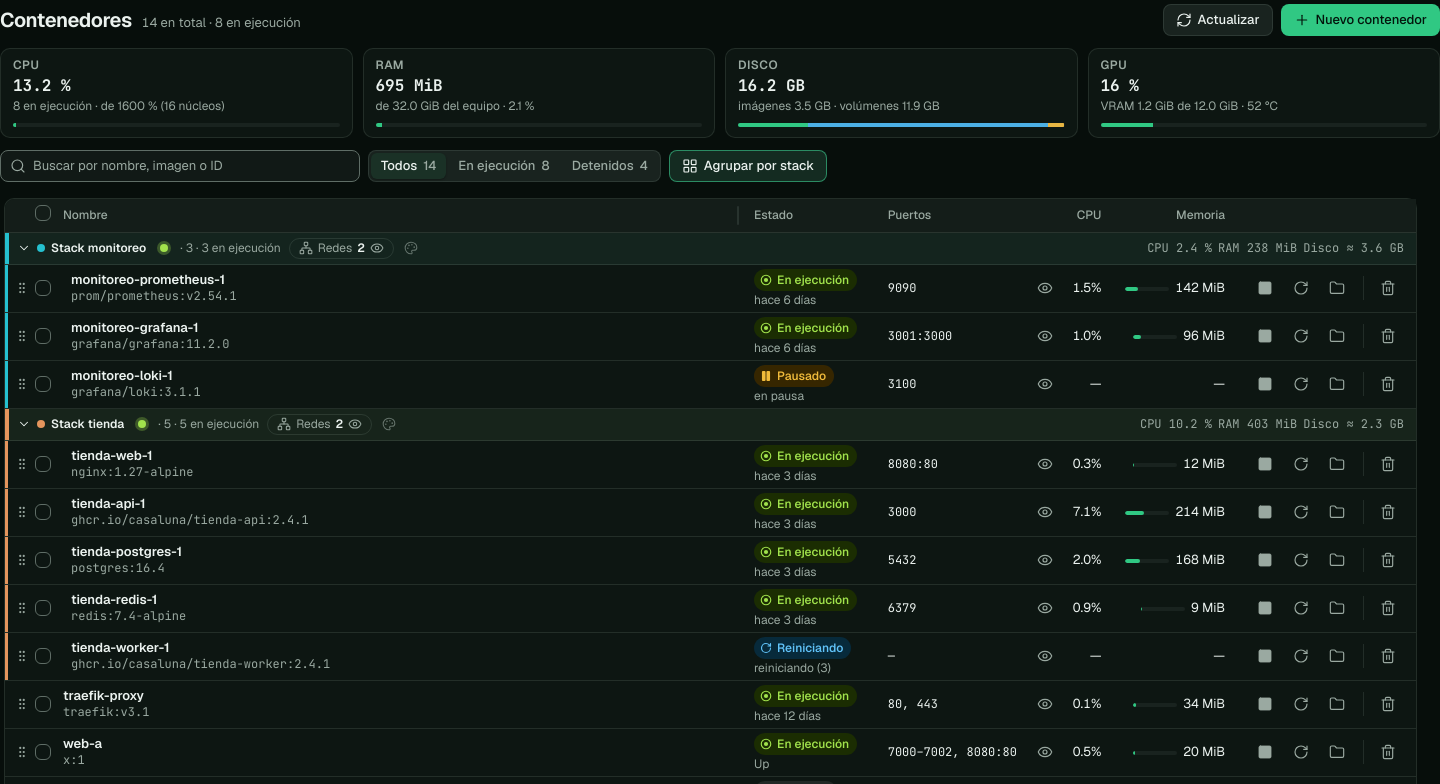
Test: Copiar y Abrir puerto › fila tcp publicada: botones Copiar y Abrir (nunca enlaces ni window.open); sin botones en udp, rango ni solo expuesto
Expected: the link "web-a" is shown, [63,735,102,752]
Click the button named "Ver puertos e IPs de web-a": (1045, 752) [1029,736,1061,768]
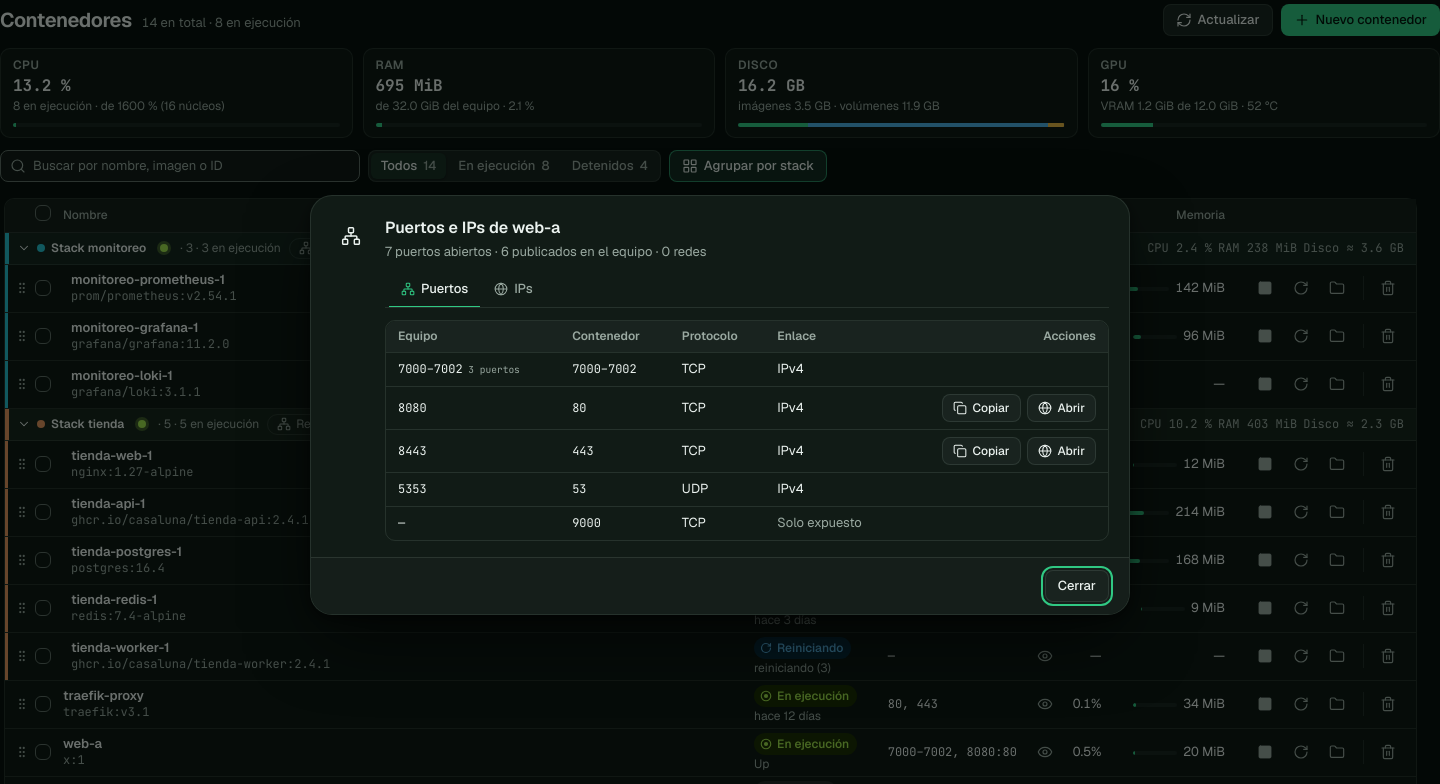
Expected: the button with aria-label "Copiar puerto 8080 de web-a" is shown, [942,394,1020,422]
Expected: the button with aria-label "Abrir puerto 8443 de web-a en el navegador" is shown, [1026,437,1096,465]
Expected: the number of buttons named "Copiar puerto" is 2, [942,394,1020,422]; [942,437,1020,465]
